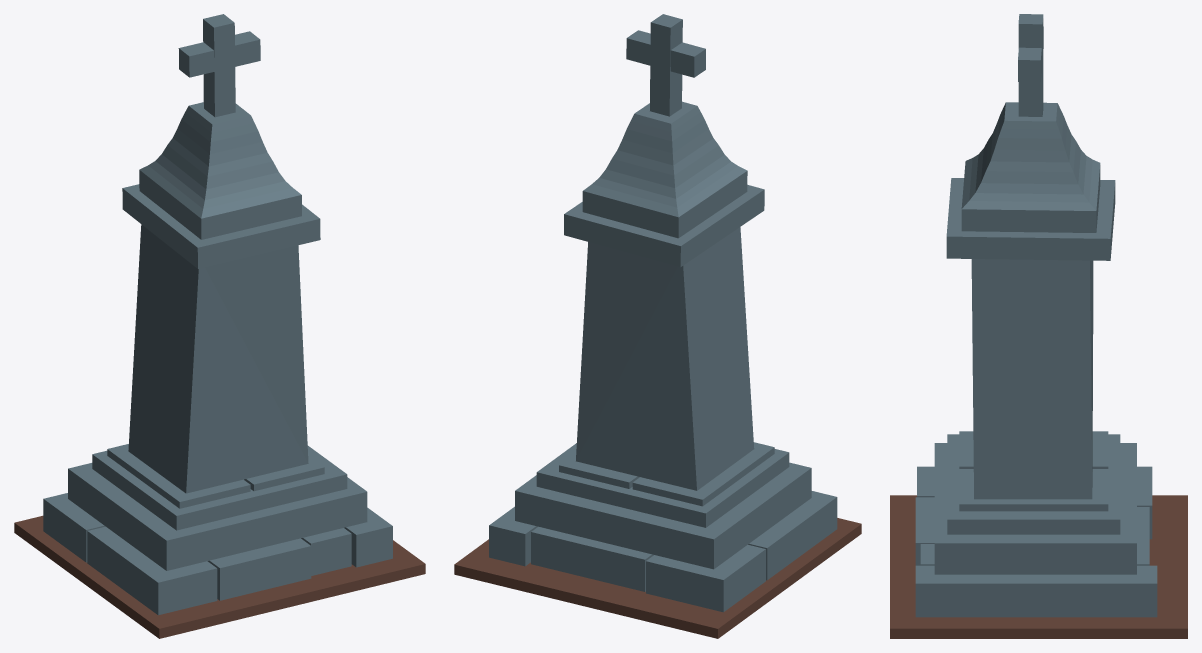
3 views of the same model, side by side, from view 1: azimuth 30°, elevation 25°; view 2: azimuth 150°, elevation 25°; view 3: azimuth 270°, elevation 25° (orthographic). The views are drawn at different scales.
Parts seen in each view (by area): view 1: node_MeshObject1853984576-PolyPaper16; view 2: node_MeshObject1853984576-PolyPaper16; view 3: node_MeshObject1853984576-PolyPaper16.
Part boxes in pixels (x1,y1,x2,y2): node_MeshObject1853984576-PolyPaper16: (14,14,425,638); node_MeshObject1853984576-PolyPaper16: (454,14,861,638); node_MeshObject1853984576-PolyPaper16: (890,14,1187,638).
Bounding box in the file's own units: 2.48 × 4.78 × 2.34.
